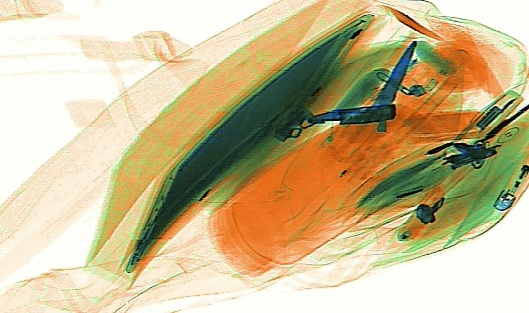lighter: (492, 153, 528, 210)
